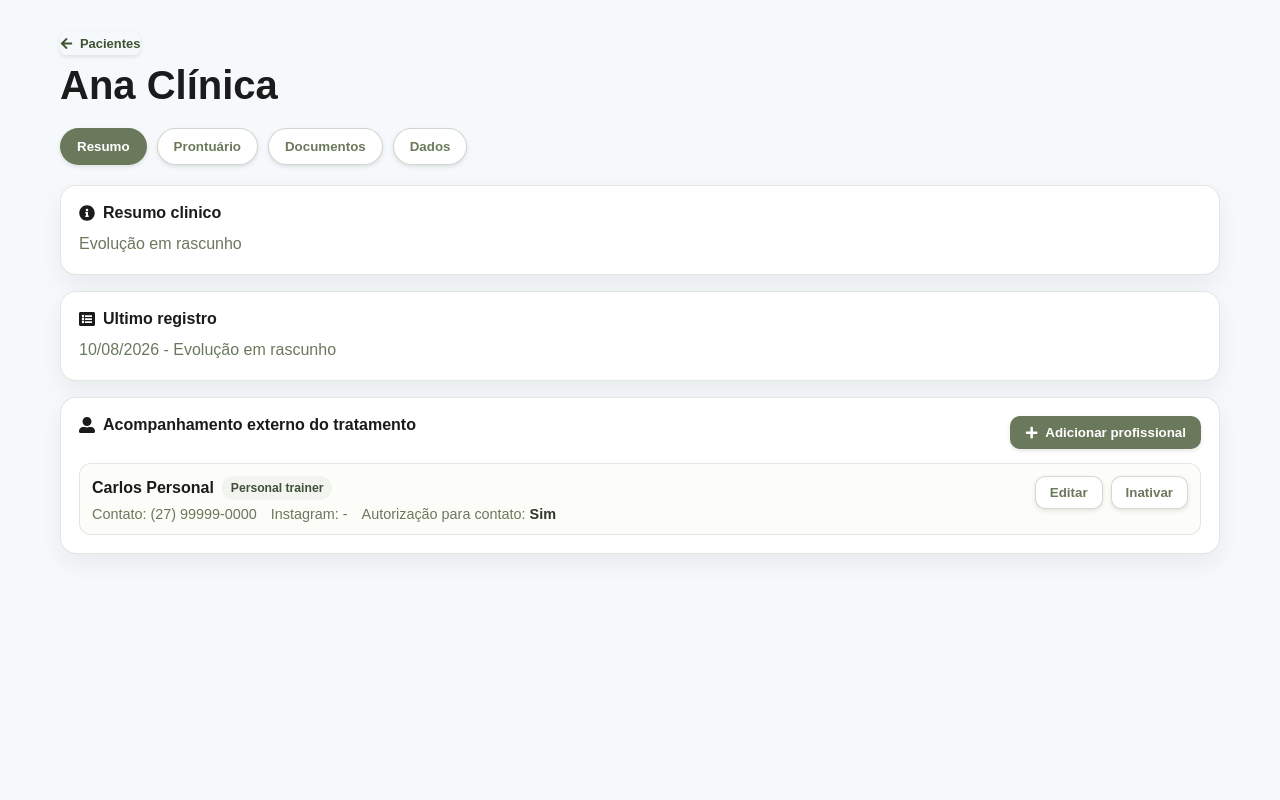
PatientDetails clinical write controls permission matrix › edit + write exposes draft and clinical mutations but hides signature and addendum
The width and height of the screenshot is (1280, 800).
Expected: the heading "Ana Clínica" is shown, [60,63,278,108]
Click the button "Prontuário": (207, 146) [157,128,258,165]
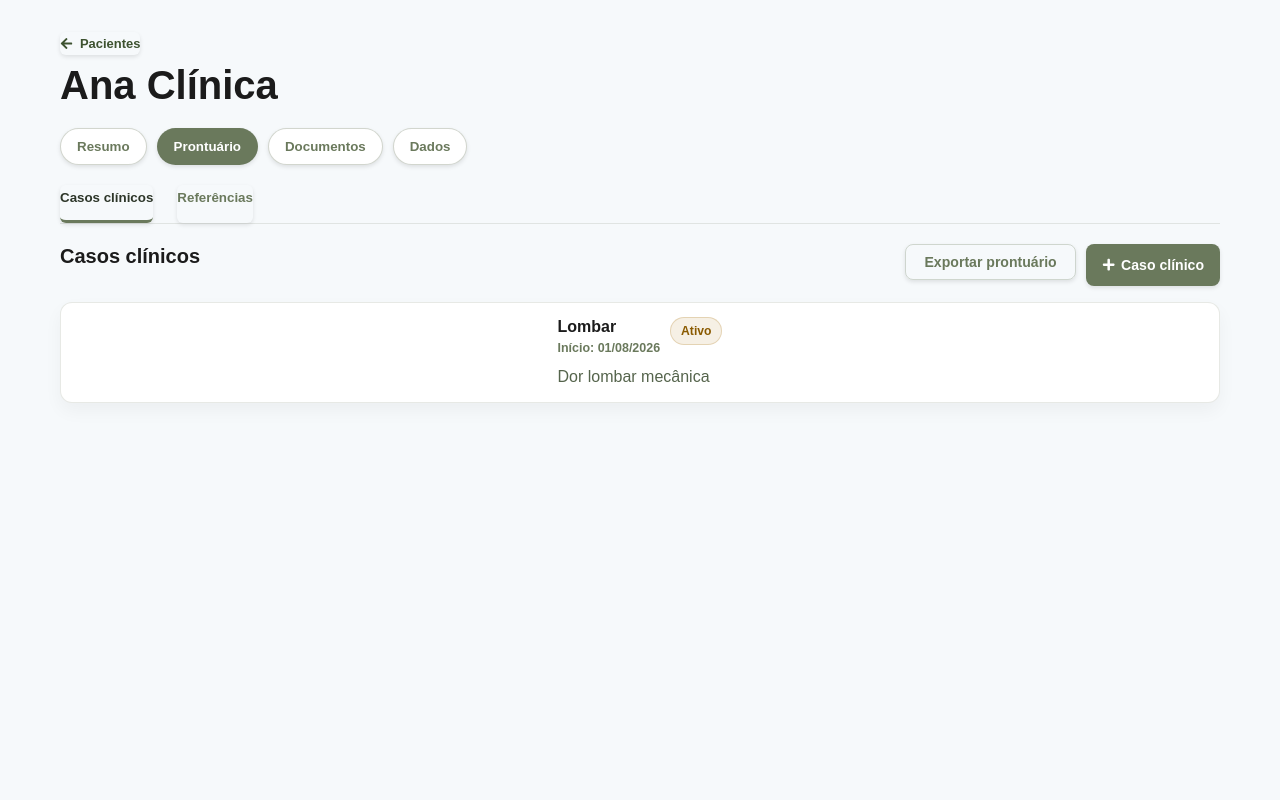
Click the button "Lombar Início: 01/08/2026 Ativo Dor lombar mecânica": (640, 353) [60,302,1220,403]
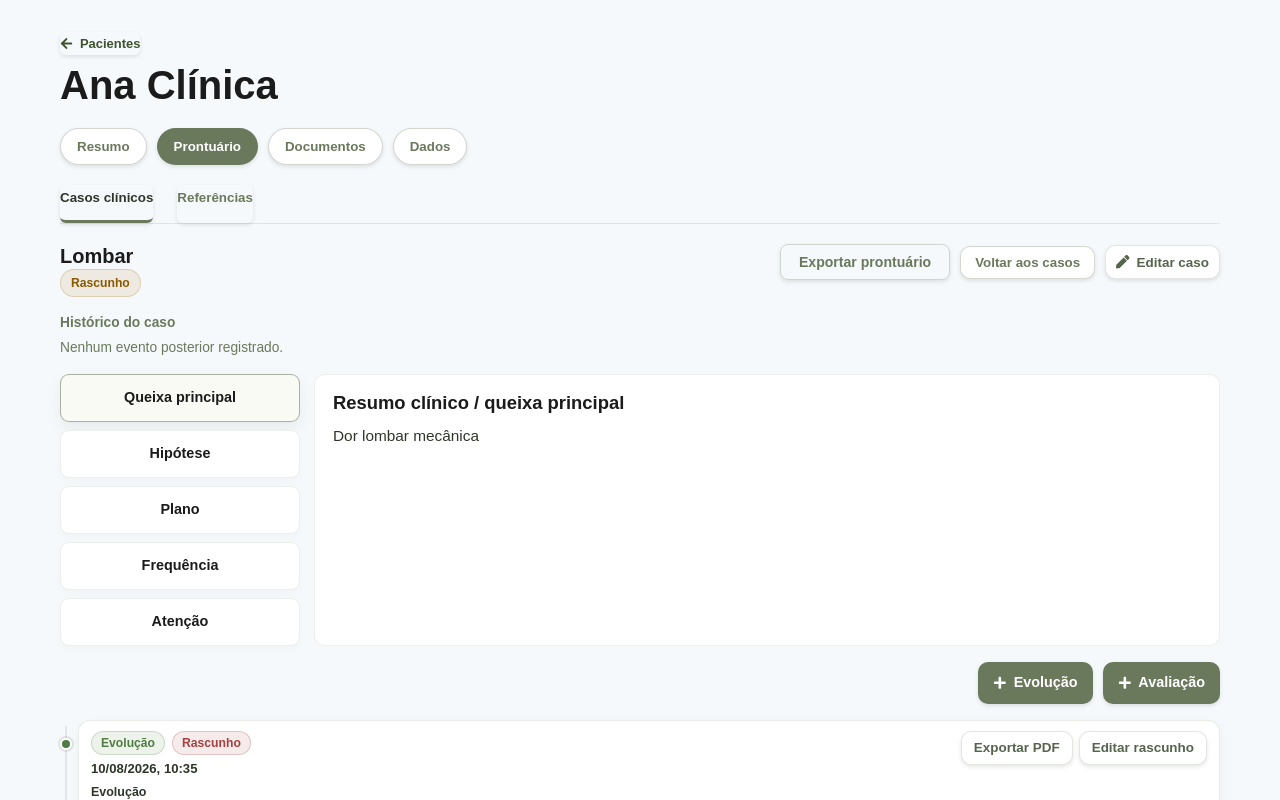
Expected: the text "Dor lombar mecânica" is shown, [333,426,479,444]
Expected: the button "Evolução" is shown
Expected: the button "Avaliação" is shown, [1103,662,1220,704]
Click the button "Evolução": (1035, 682) [978,662,1093,704]
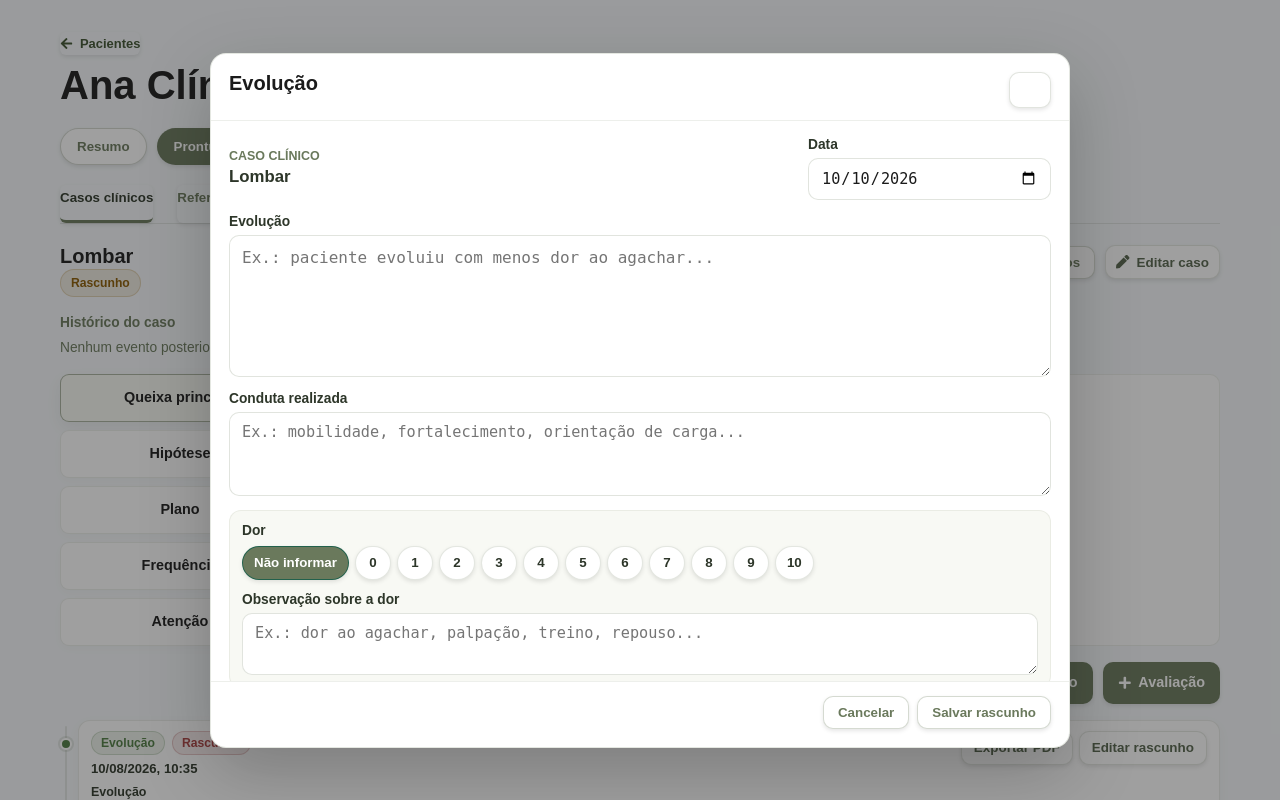
Expected: the button "Salvar rascunho" is enabled, [917,696,1051,728]
